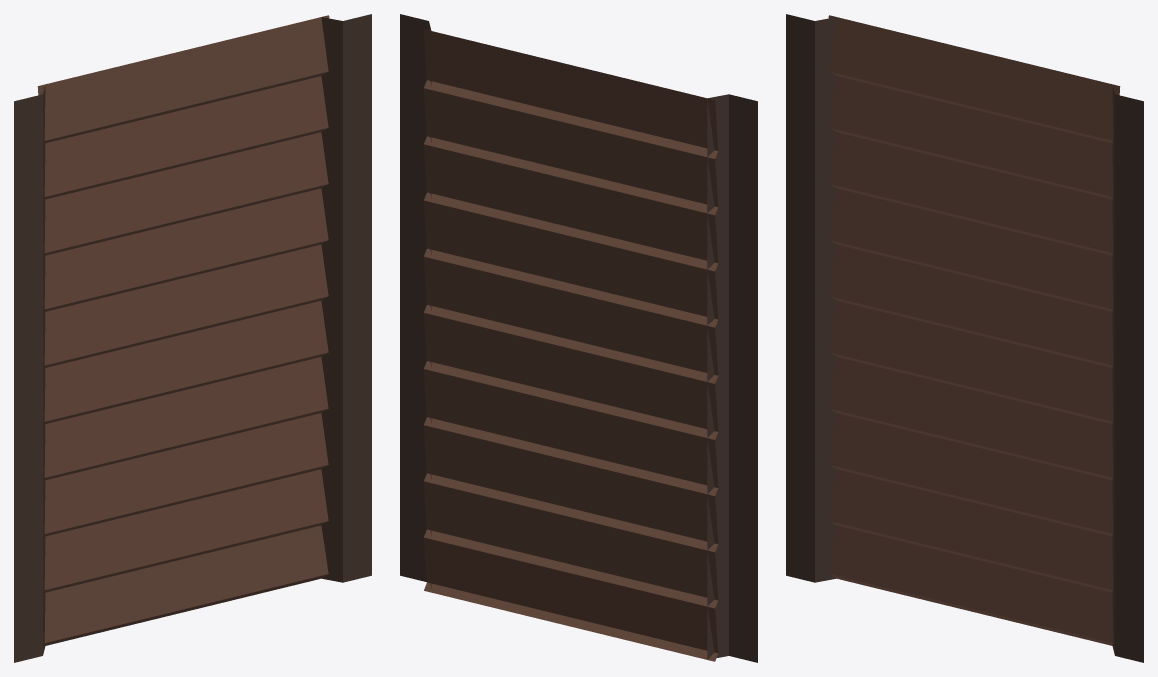
The model's file is LPHorror_2MWallH.fbx.
3 views of the same model, side by side, from view 1: azimuth 30°, elevation 25°; view 2: azimuth 150°, elevation 25°; view 3: azimuth 330°, elevation 25° (orthographic).
Parts seen in each view (by area): view 1: 2MWallH; view 2: 2MWallH; view 3: 2MWallH.
Part boxes in pixels (box(x1,y1,x2,y2)): 2MWallH: box(14, 14, 371, 662); 2MWallH: box(400, 14, 757, 662); 2MWallH: box(786, 14, 1143, 662).
Bounding box in the file's own units: 200 × 300 × 9.25.
